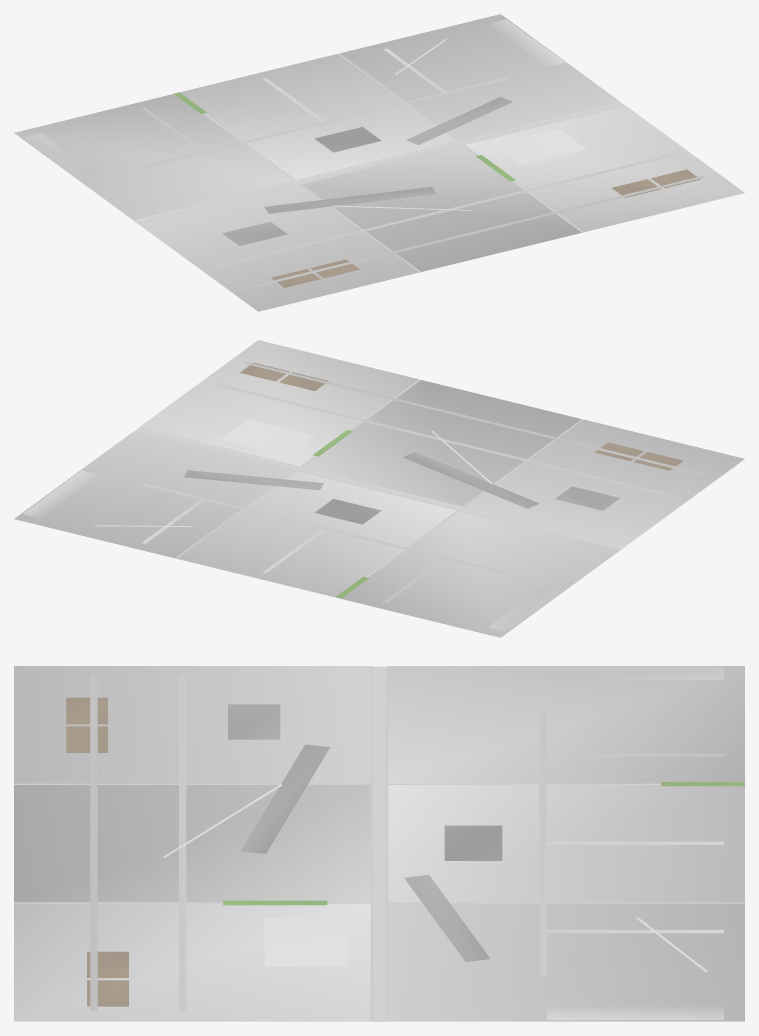
Rendered from loading_yard.glb.
The picture shows the model from 3 angles, top to bottom: view 1: azimuth 30°, elevation 25°; view 2: azimuth 150°, elevation 25°; view 3: azimuth 270°, elevation 25°; orthographic projection. The views are drawn at different scales.
Visible parts, largest first — view 1: loading_yard; view 2: loading_yard; view 3: loading_yard.
Boxes of the visible parts, <box> form: loading_yard: <box>14,14,744,311</box>; loading_yard: <box>14,340,744,637</box>; loading_yard: <box>14,666,744,1021</box>.
Bounding box in the file's own units: 16.1 × 0.025 × 14.
